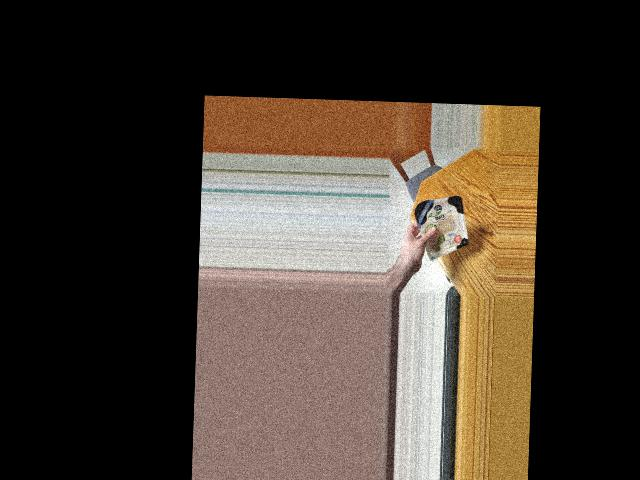cheese: (415, 196, 468, 251)
